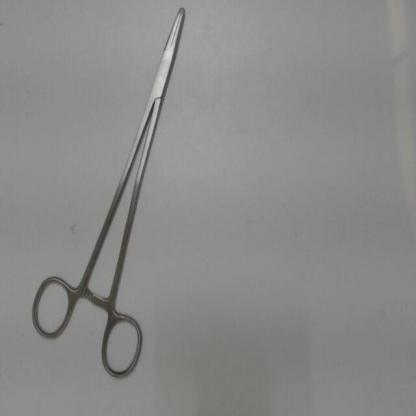8 Mayo Needle Holder: (21, 0, 194, 387)
